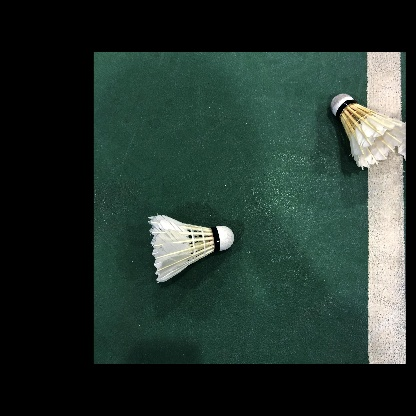ball_single: (148, 215, 234, 284), (330, 93, 406, 170)
